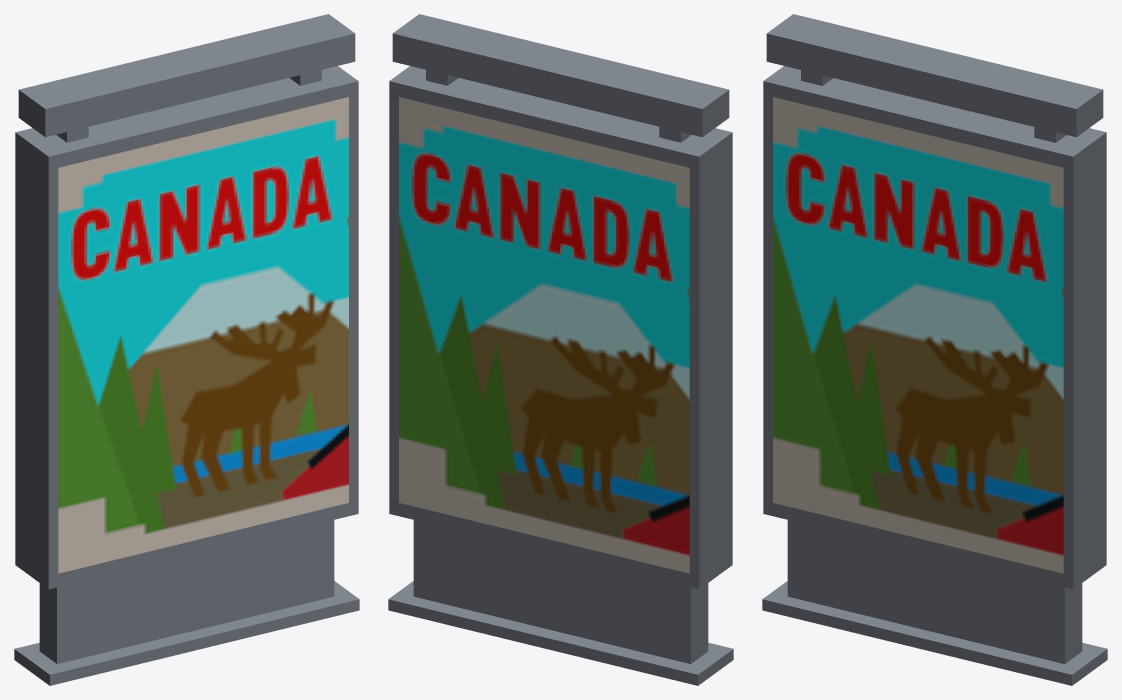
Rendered from SM_Billboard_Panel_01.fbx.
The picture shows the model from 3 angles, left to right: view 1: azimuth 30°, elevation 25°; view 2: azimuth 150°, elevation 25°; view 3: azimuth 330°, elevation 25°; orthographic projection.
Parts seen in each view (by area): view 1: SM_Billboard_Panel_01; view 2: SM_Billboard_Panel_01; view 3: SM_Billboard_Panel_01.
Boxes of the visible parts, bbox=[...] form: SM_Billboard_Panel_01: bbox=[14, 14, 359, 685]; SM_Billboard_Panel_01: bbox=[388, 14, 733, 685]; SM_Billboard_Panel_01: bbox=[762, 14, 1107, 685].
Bounding box in the file's own units: 2.2 × 3.89 × 0.4375.
